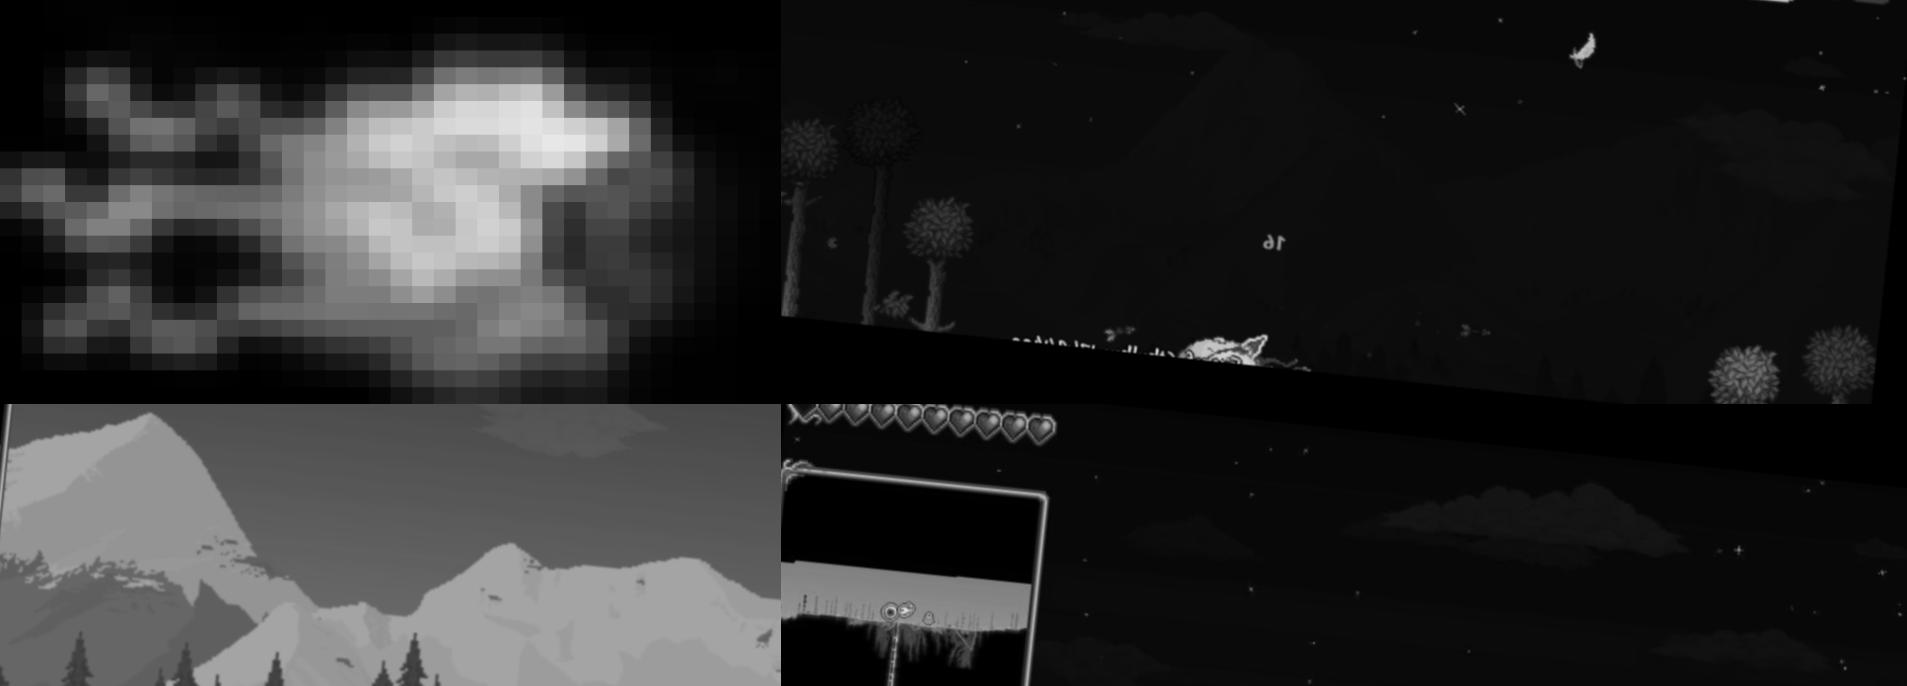eye: (0, 0, 781, 404)
eyeC: (1161, 330, 1322, 372)
heart: (1024, 412, 1058, 446)
